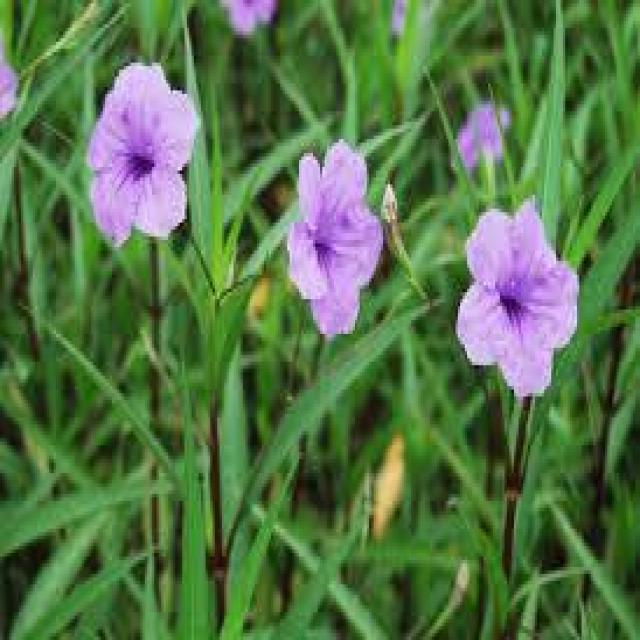organic waste: (456, 177, 580, 400), (78, 62, 214, 258), (280, 151, 383, 339)
